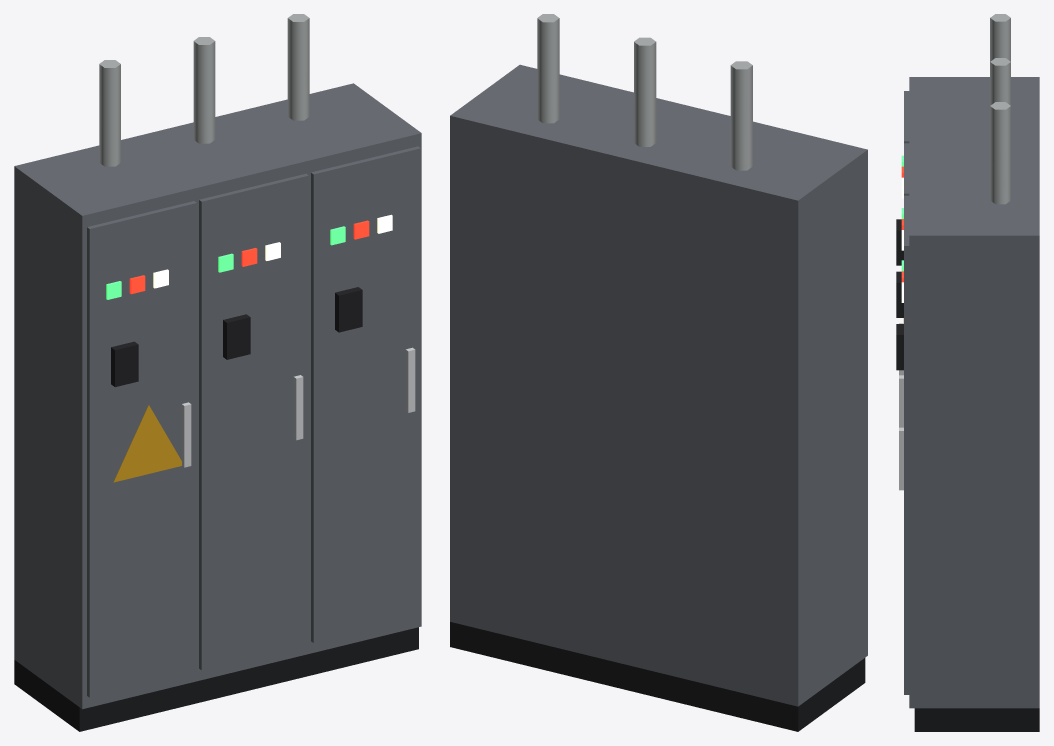
Rendered from control_panel.glb.
The picture shows the model from 3 angles, left to right: view 1: azimuth 30°, elevation 25°; view 2: azimuth 150°, elevation 25°; view 3: azimuth 270°, elevation 25°; orthographic projection. The views are drawn at different scales.
Visible parts, largest first — view 1: control_panel; view 2: control_panel; view 3: control_panel.
Boxes of the visible parts, x1=… form: control_panel: x1=14, y1=14, x2=421, y2=731; control_panel: x1=450, y1=14, x2=867, y2=731; control_panel: x1=896, y1=14, x2=1039, y2=731.
Size of the model in its own units: 1.44 by 2.5 by 0.55.
Materials: 1 (1 with a texture image).
